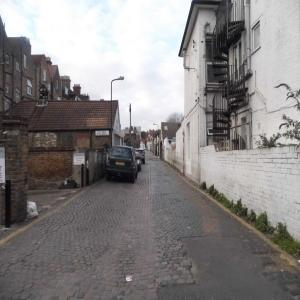Vehicle-registration-plate: (117, 163, 125, 167)
